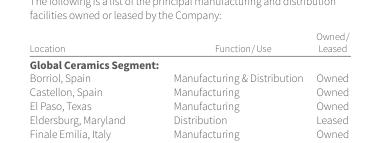table: (28, 28, 348, 112)
table column: (137, 28, 308, 112), (28, 28, 137, 112), (308, 28, 348, 112)
table column header: (28, 28, 348, 55)
table projected row header: (28, 55, 348, 70)
table row: (28, 28, 348, 55), (28, 55, 348, 70), (28, 70, 348, 84), (28, 84, 348, 98), (28, 98, 348, 112)
